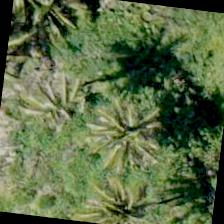Kelapa_Sawit: (80, 85, 180, 184), (72, 169, 169, 223)
